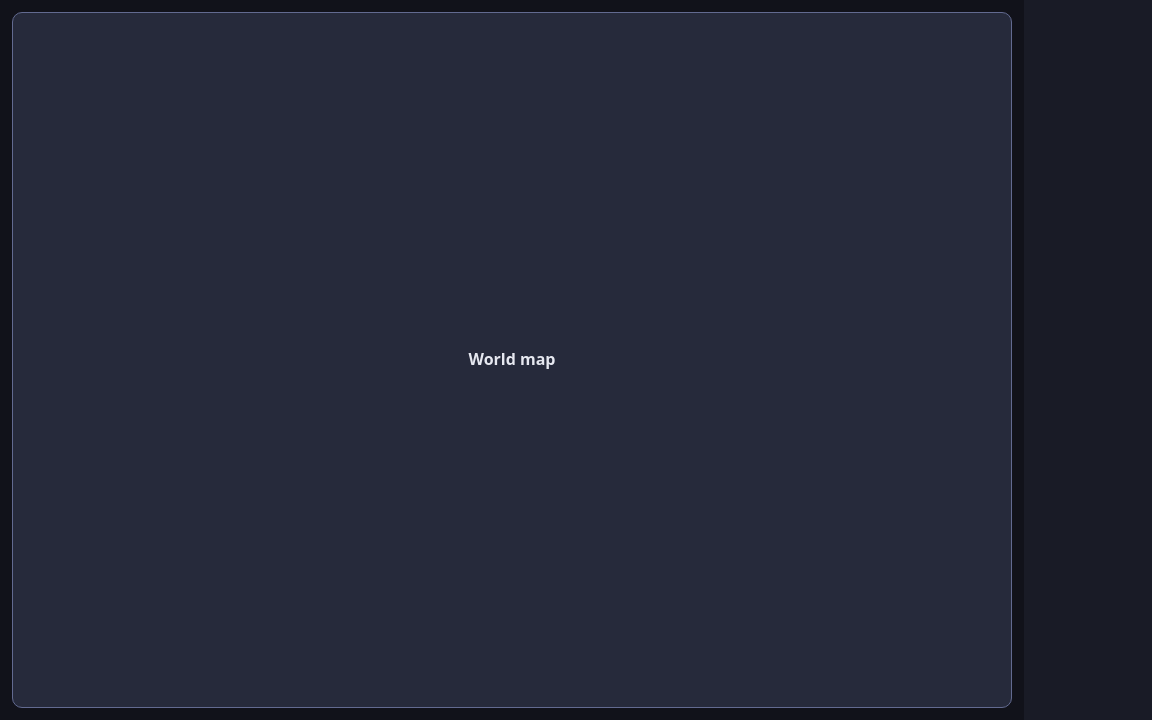
Scenario: shows the error when press fails
The image size is (1152, 720).
Click the button "World map": (512, 666) [12,12,1012,708]
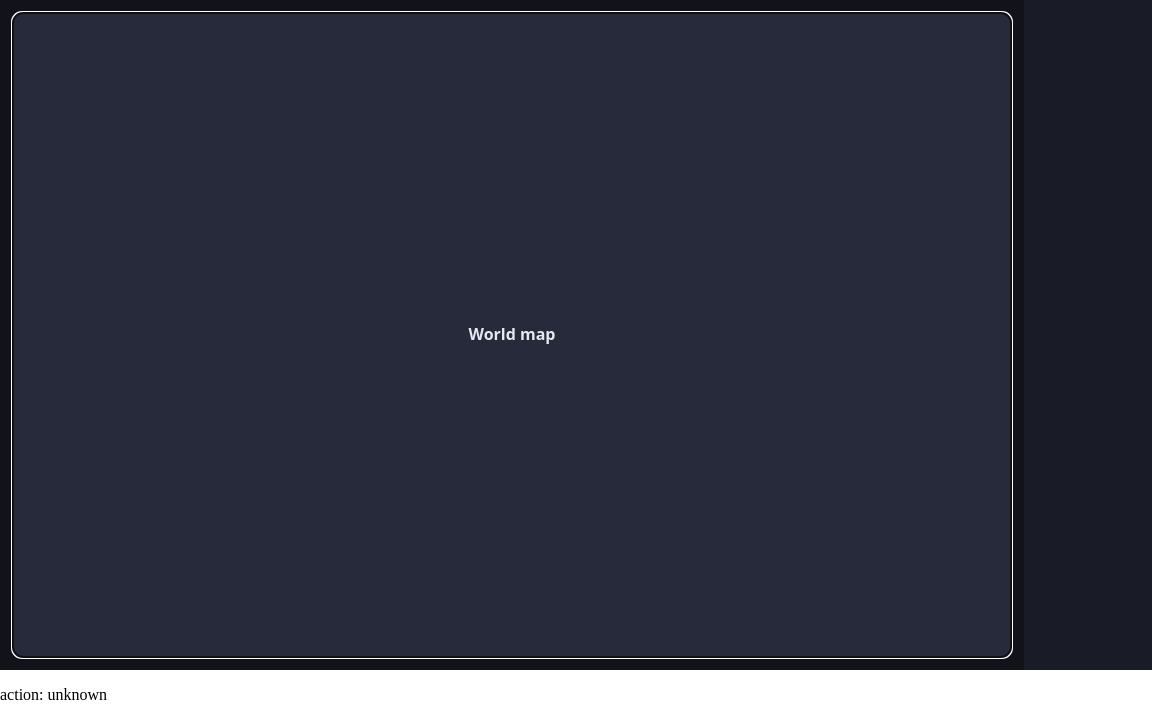
Check: the message reads "action: unknown", box [0,686,107,703]
